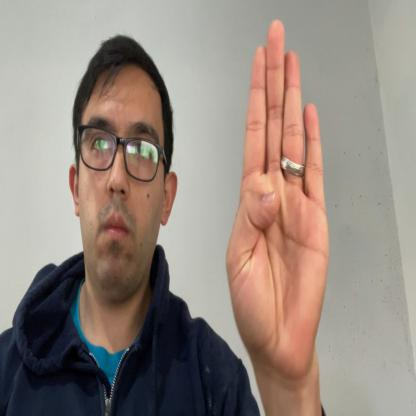B: (226, 17, 330, 377)
